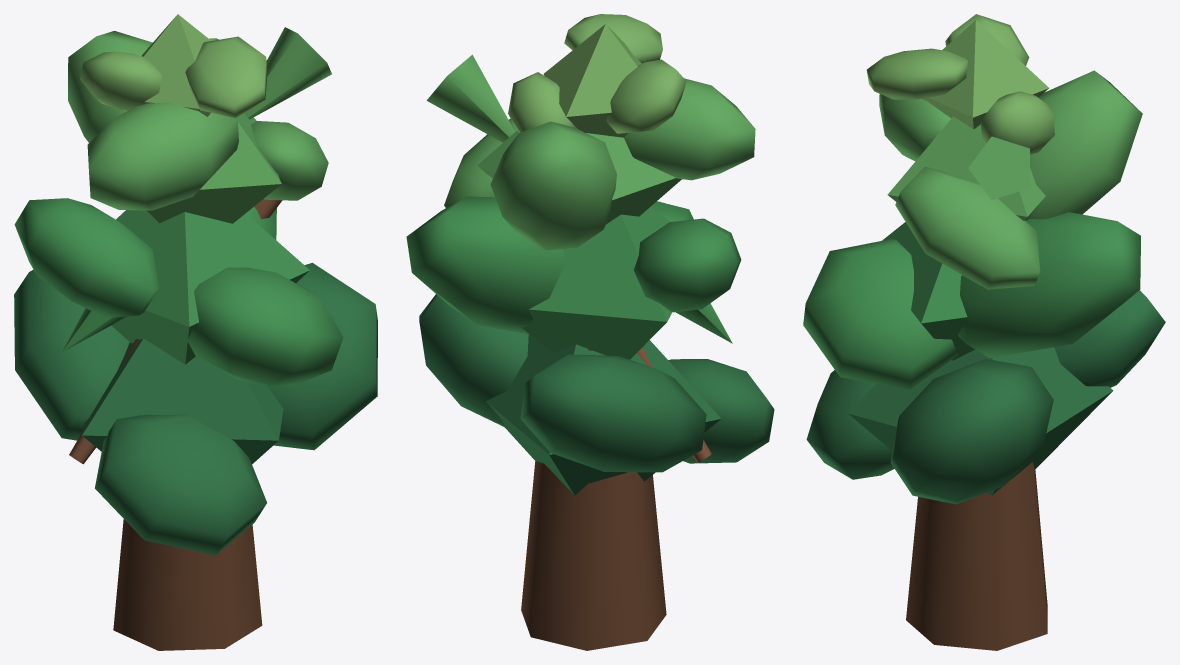
File: tree.glb
The picture shows the model from 3 angles, left to right: view 1: azimuth 30°, elevation 25°; view 2: azimuth 150°, elevation 25°; view 3: azimuth 270°, elevation 25°; orthographic projection. The views are drawn at different scales.
Visible parts, largest first — view 1: Foliage_Lower, Foliage_Mid, Foliage_Upper, LowPolyLeafyTree, Foliage_Tip; view 2: Foliage_Lower, Foliage_Mid, LowPolyLeafyTree, Foliage_Upper, Foliage_Tip; view 3: Foliage_Mid, Foliage_Lower, Foliage_Upper, LowPolyLeafyTree, Foliage_Tip.
Part boxes in pixels (<box>): Foliage_Lower: <box>14,262,377,555</box>; Foliage_Mid: <box>14,198,343,386</box>; Foliage_Upper: <box>68,31,328,223</box>; LowPolyLeafyTree: <box>62,27,331,650</box>; Foliage_Tip: <box>80,14,267,117</box>; Foliage_Lower: <box>419,294,774,495</box>; Foliage_Mid: <box>406,196,741,359</box>; LowPolyLeafyTree: <box>426,54,732,650</box>; Foliage_Upper: <box>444,78,755,250</box>; Foliage_Tip: <box>508,14,686,137</box>; Foliage_Mid: <box>803,212,1140,389</box>; Foliage_Lower: <box>806,290,1165,504</box>; Foliage_Upper: <box>879,70,1142,289</box>; LowPolyLeafyTree: <box>906,136,1047,650</box>; Foliage_Tip: <box>866,14,1054,154</box>.
Size of the model in its own units: 2.44 by 4.22 by 2.33.
